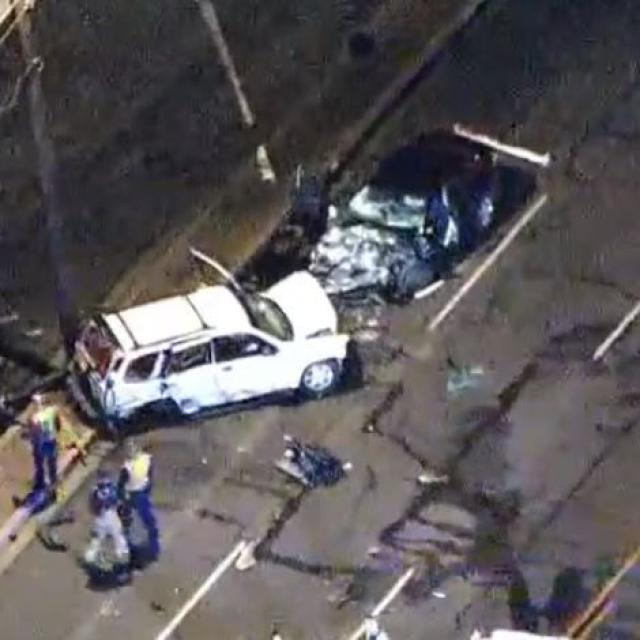traffic_incident: (79, 226, 343, 436), (297, 131, 560, 312)
